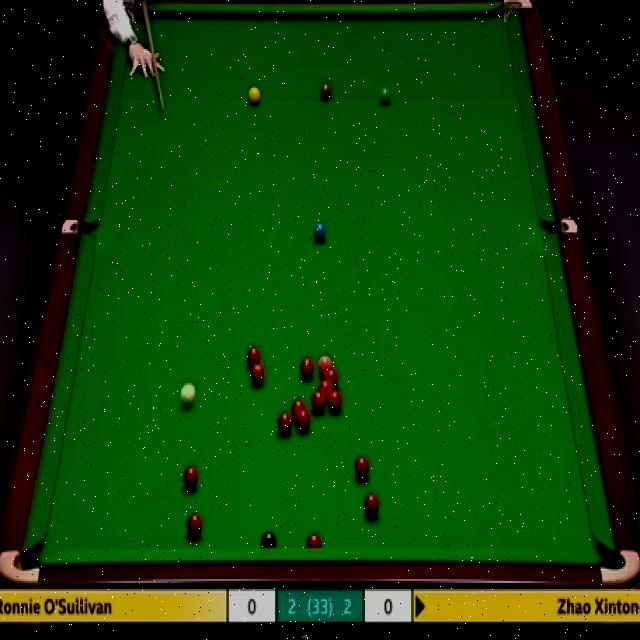black-ball: (260, 530, 277, 550)
blue-ball: (313, 222, 326, 245)
brown-ball: (320, 85, 332, 104)
green-ball: (378, 86, 394, 106)
pink-ball: (317, 353, 333, 370)
red-ball: (186, 512, 204, 540), (311, 390, 327, 417), (364, 491, 380, 518), (276, 411, 293, 436), (182, 464, 198, 490), (354, 454, 370, 479), (296, 409, 312, 433), (246, 346, 262, 369), (252, 364, 267, 388), (306, 530, 322, 550), (300, 356, 314, 378), (326, 386, 340, 408), (318, 381, 334, 399), (323, 369, 339, 385), (290, 399, 307, 414)
white-ball: (179, 380, 196, 408)
yellow-ball: (248, 84, 261, 104)
